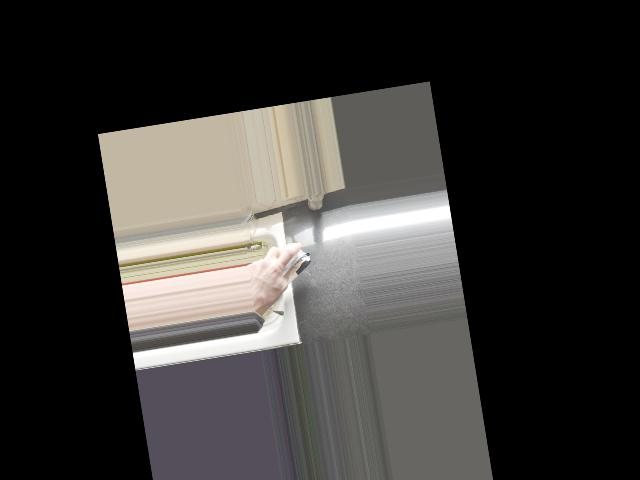cheese: (248, 242, 317, 298)
